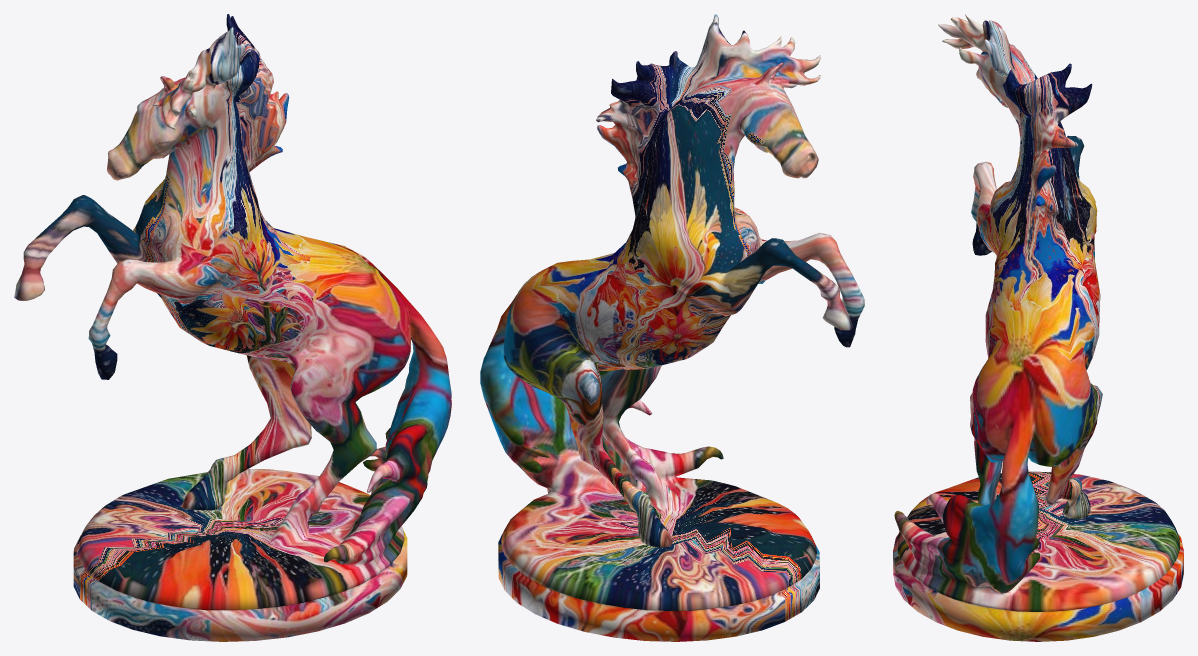
File: ph_horse_statue_01.glb
3 views of the same model, side by side, from view 1: azimuth 30°, elevation 25°; view 2: azimuth 150°, elevation 25°; view 3: azimuth 270°, elevation 25° (orthographic). The views are drawn at different scales.
Parts seen in each view (by area): view 1: A; view 2: A; view 3: A.
Boxes of the visible parts, box(x1,y1,x2,y2) form: A: box(14, 14, 451, 641); A: box(480, 14, 864, 641); A: box(893, 14, 1183, 641).
Bounding box in the file's own units: 1.48 × 2 × 0.98.
2 materials, 2 textured.
